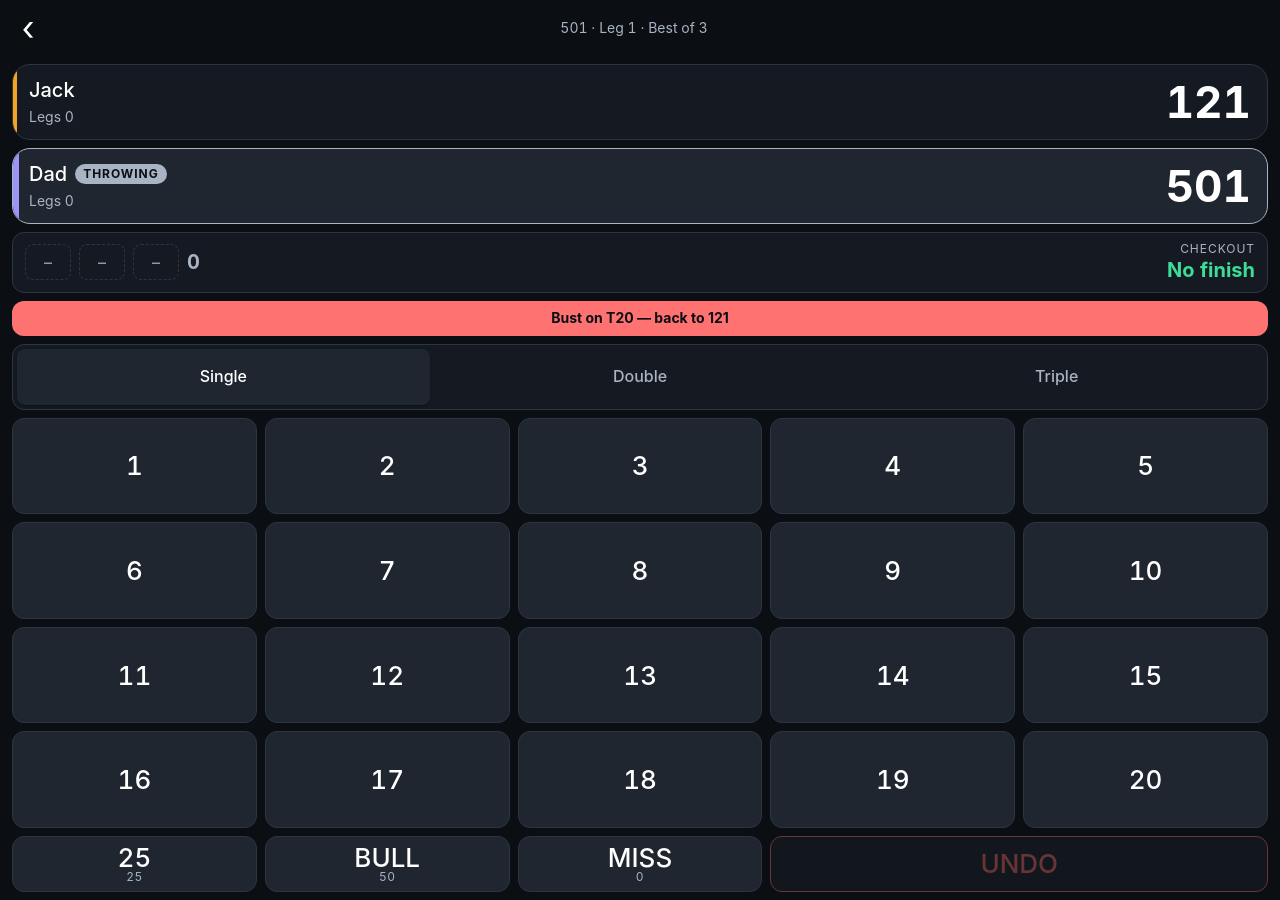
a bust › clears the banner once the next dart lands
expect the message shows "Bust on T20": met, box [12,301,1268,336]
Click the button named "20, single" at {"x": 1146, "y": 780}, box [1023,732,1268,828]
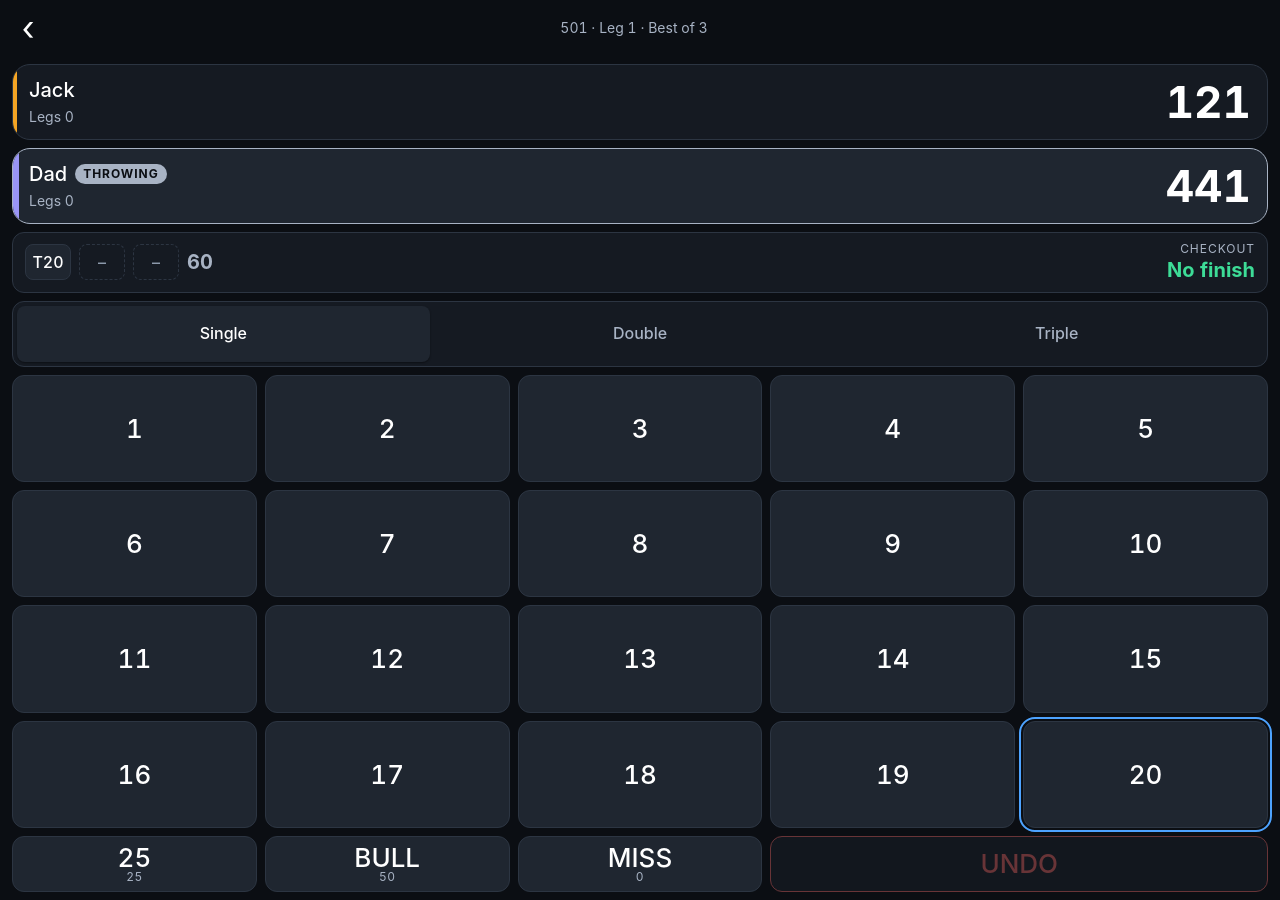
expect the message "Bust on T20 — back to 121" is gone: met
